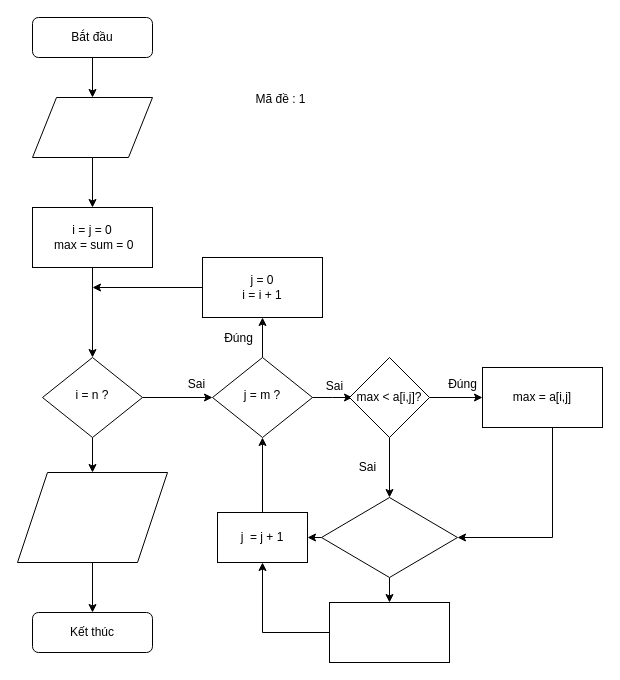
Some shapes in this 620 by 680 pixel diagram are drawn without their labels. The centre of each missing label's shape, as x and y in pixels:
a[i,j] % 2 = 0 ?: (389,537)
Hiển thi max và sum: (92,517)
Nhập m, n: (92,127)
sum = sum + a[i,j]: (389,632)
